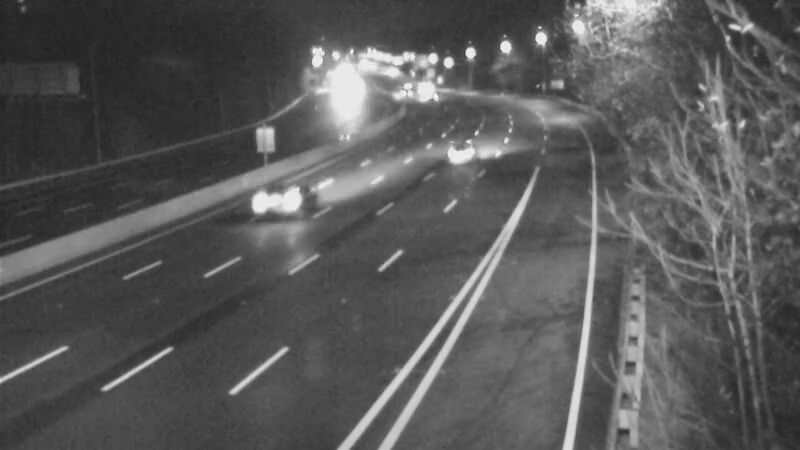vehicle: (417, 114, 497, 194), (235, 158, 315, 238), (375, 66, 425, 116), (405, 76, 455, 126)
